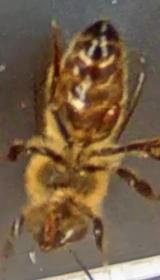varroa_mite: (96, 87, 122, 138)
